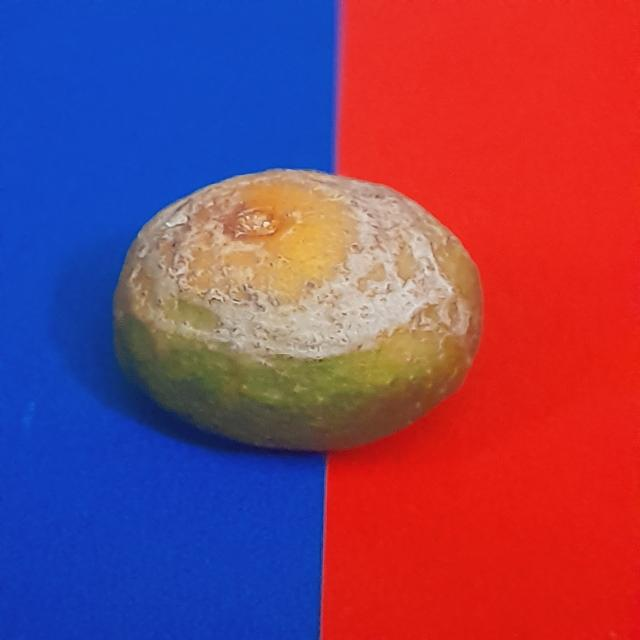thrips: (106, 165, 492, 469)
